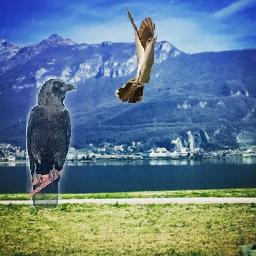Crow: (27, 77, 78, 209)
Cuckoo: (115, 7, 157, 103)
